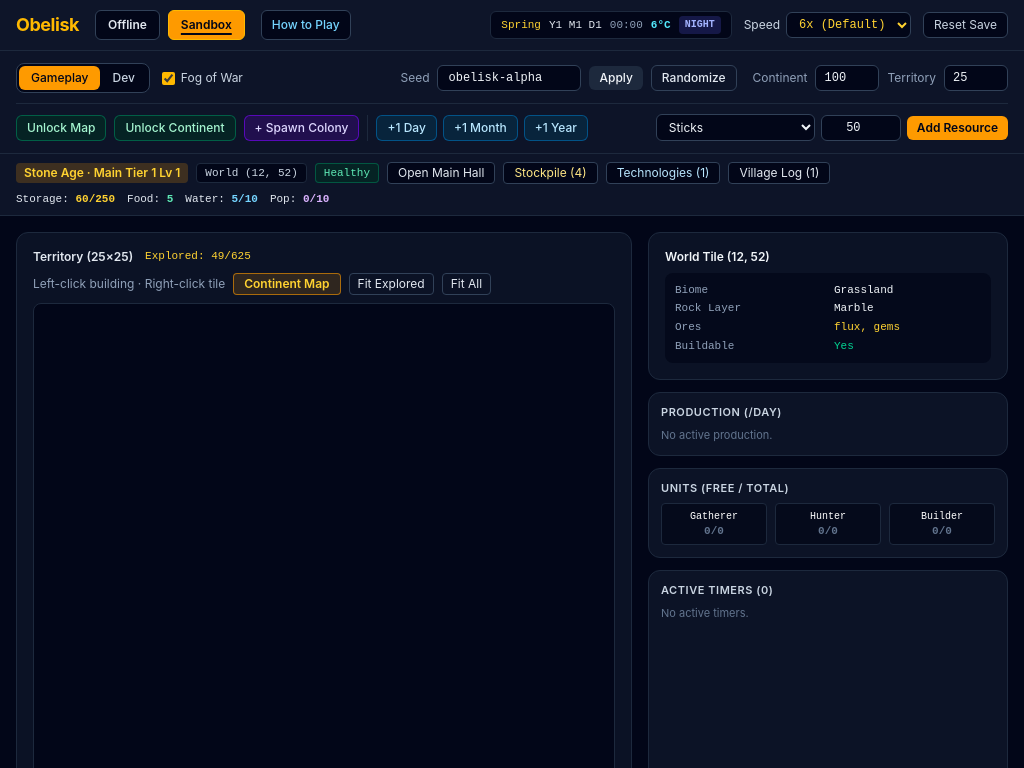
Test: Stage 3B: Continent Full Page Toggle, Top-Right Sidebar & Team Action Menu › dispenses idle units in live Sandbox HUD and decrements population usage
This screenshot has width=1024, height=768.
Select "3600x" in the dropdown named "Game Speed" at (848, 25), box [786,12,911,38]
(page scrolled)
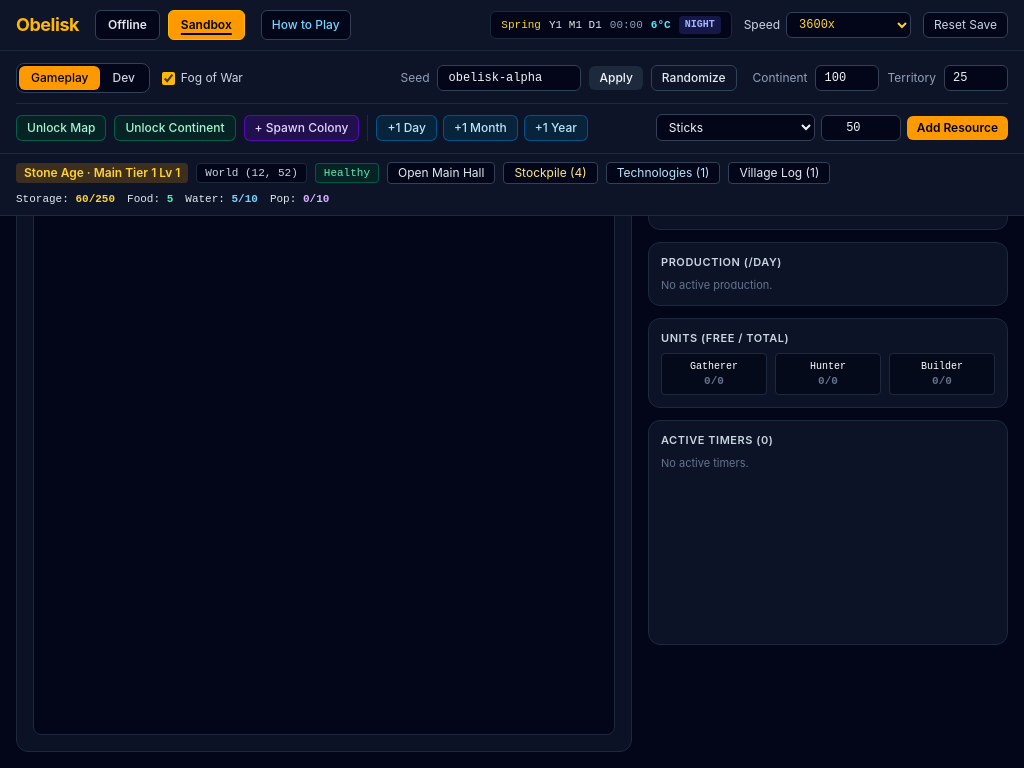
Press the mouse on the drawing named "Territory Map Canvas" at (324, 444), box [34,154,614,734]
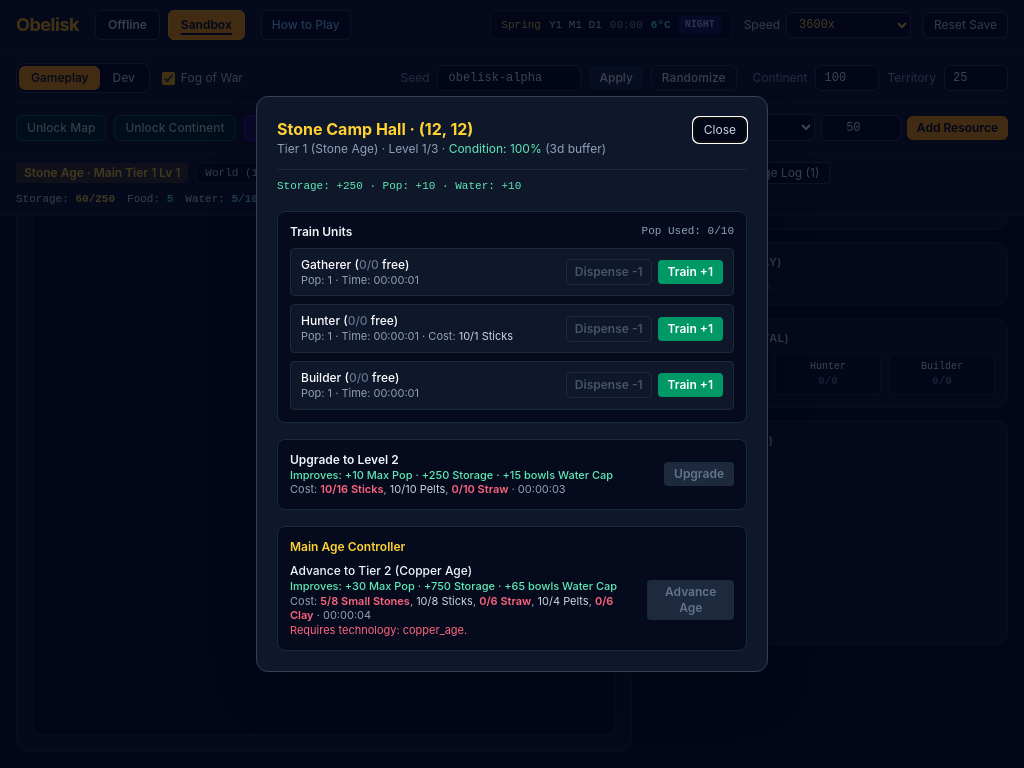
Click the 1st button "Train +1" at (690, 272), box [658,260,723,284]
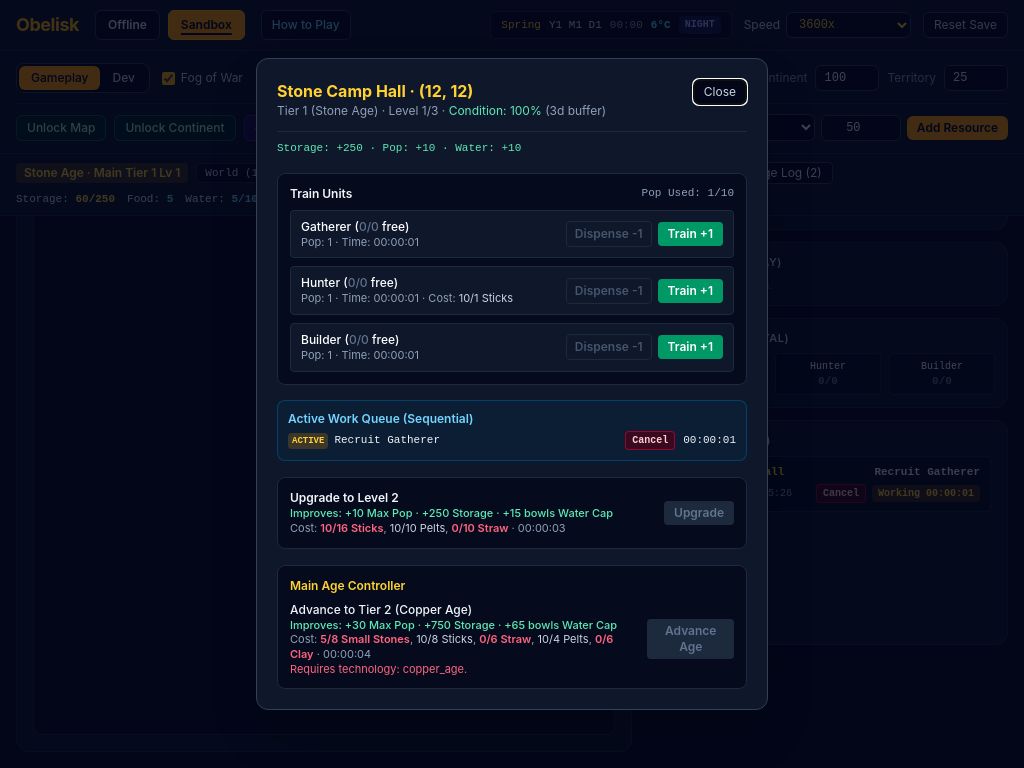
Click the button "Close" at (720, 92), box [693,79,747,105]
Wait 500 ms
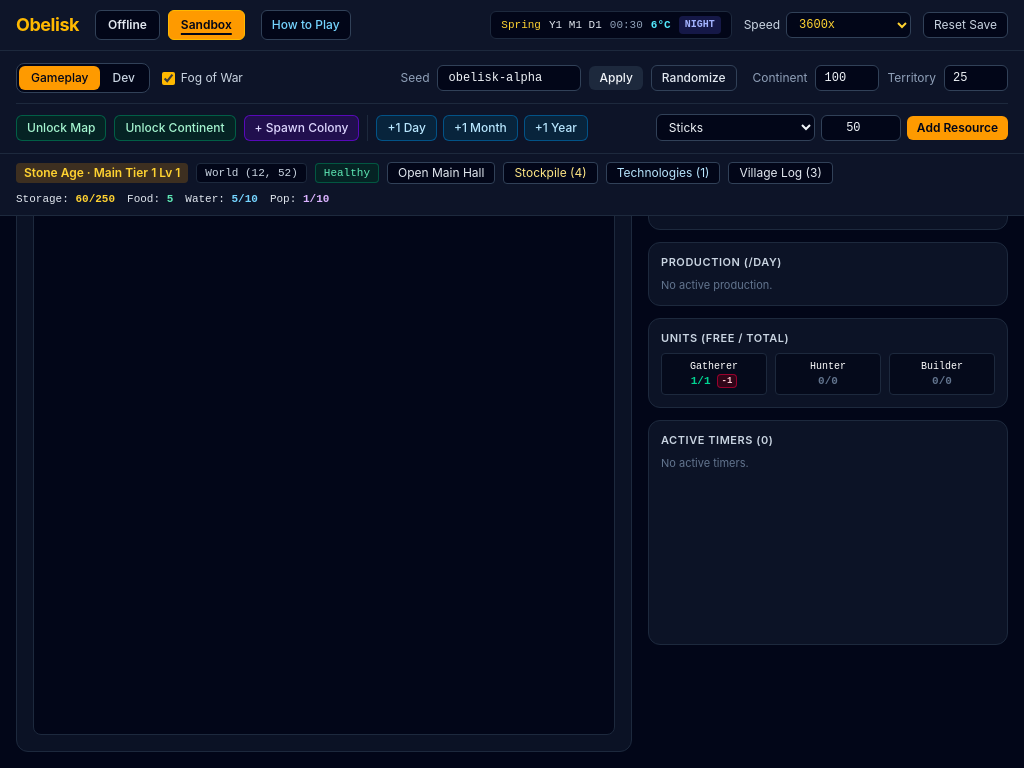
Expected: the text "1/10" is shown, [303,193,329,205]
Click the button named "Dispense 1 Gatherer" at (727, 381), box [716,374,737,388]
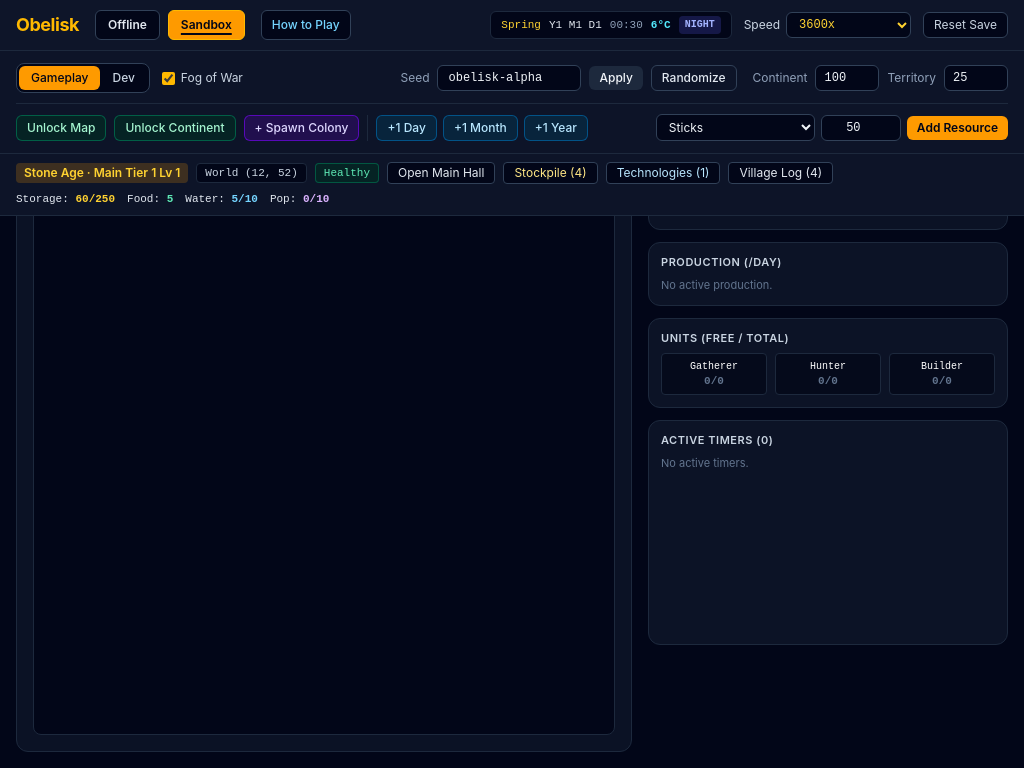
Expected: the text "0/10" is shown, [303,193,329,205]
